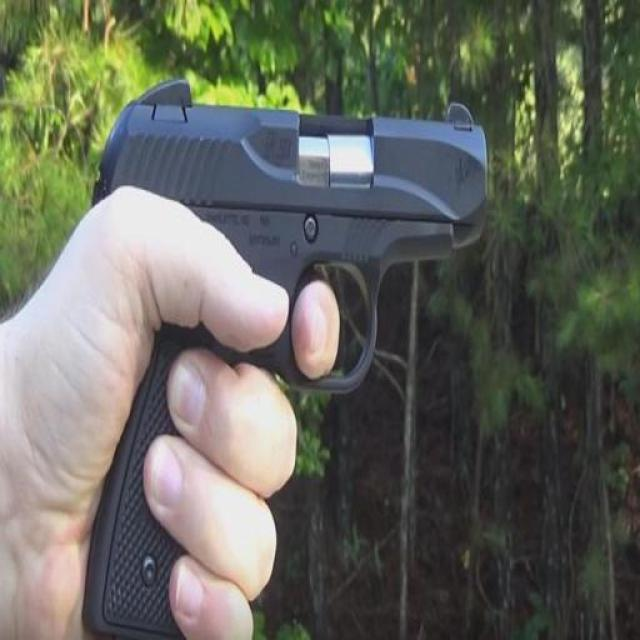pistol: (76, 99, 486, 634)
